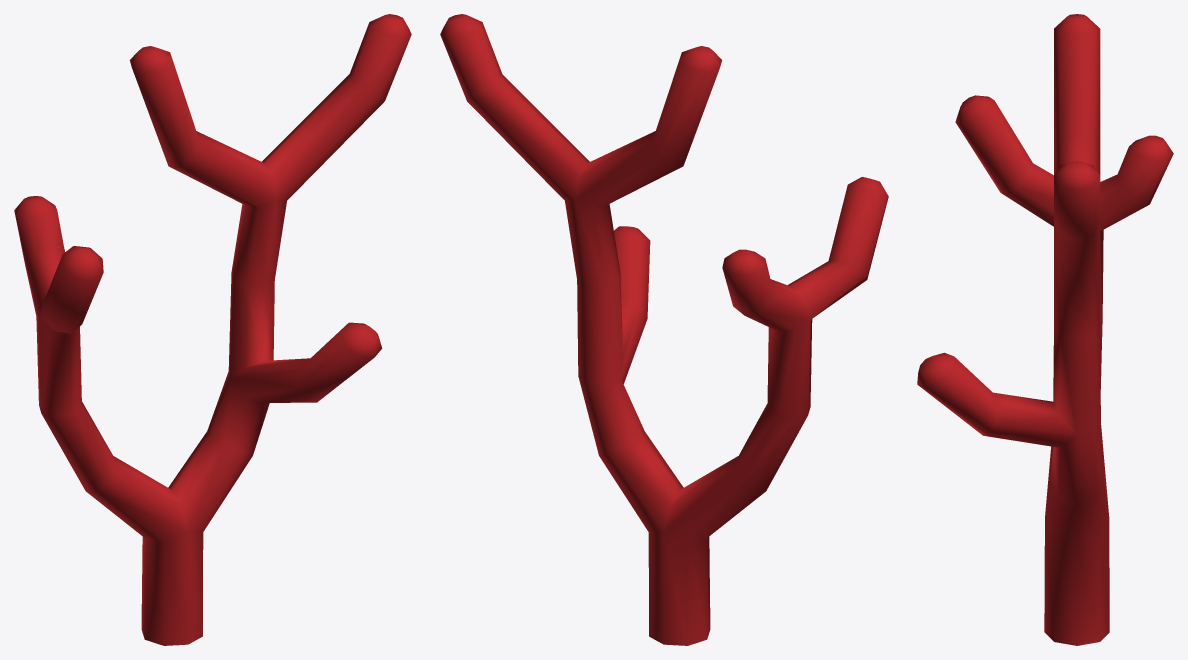
Rendered from Sea_plant_1_1.fbx.
3 views of the same model, side by side, from view 1: azimuth 30°, elevation 25°; view 2: azimuth 150°, elevation 25°; view 3: azimuth 270°, elevation 25° (orthographic). The views are drawn at different scales.
Parts seen in each view (by area): view 1: Sea_plant_1_1; view 2: Sea_plant_1_1; view 3: Sea_plant_1_1.
Part boxes in pixels (x1=…): Sea_plant_1_1: x1=14, y1=14, x2=411, y2=645; Sea_plant_1_1: x1=440, y1=14, x2=888, y2=645; Sea_plant_1_1: x1=917, y1=14, x2=1173, y2=645.
Size of the model in its own units: 0.798 by 1.14 by 0.4372.
